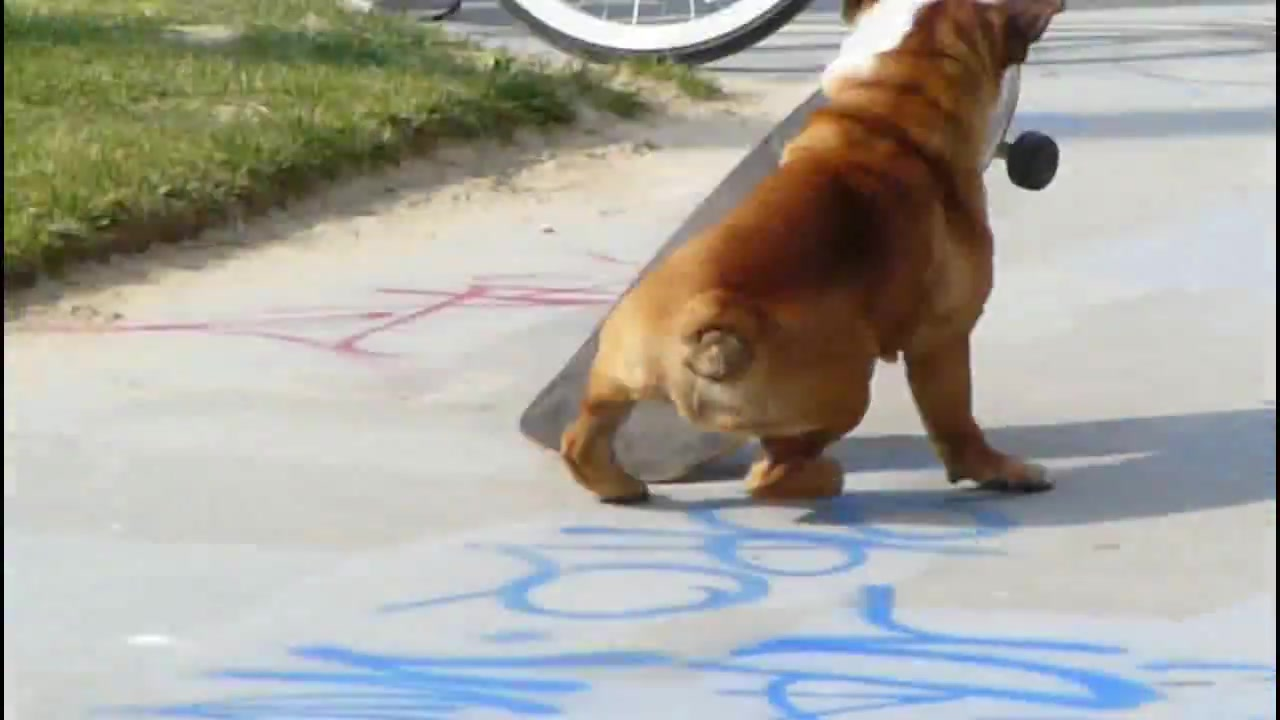dog: (563, 2, 1076, 506)
